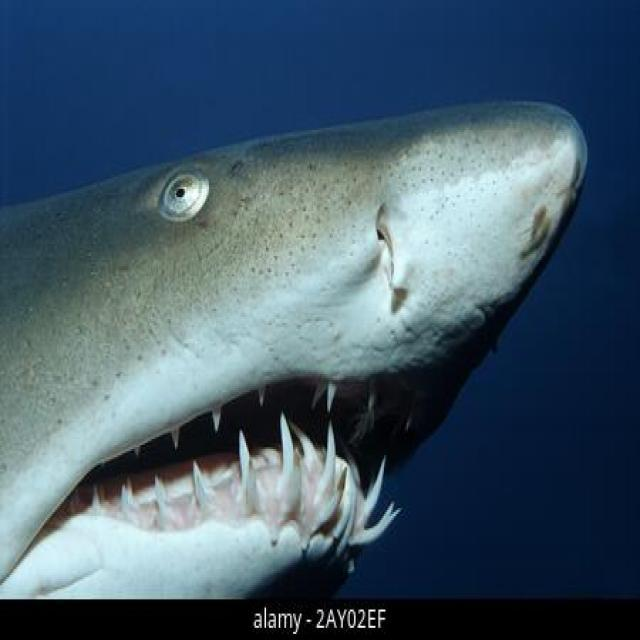Shark: (6, 100, 604, 600)
